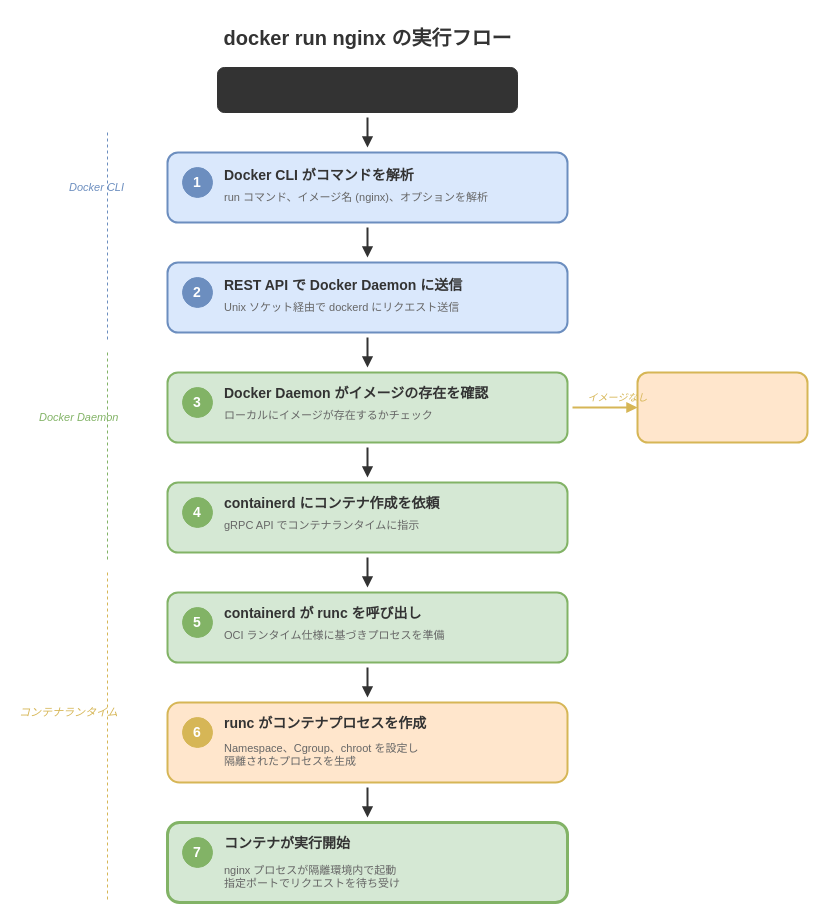
The diagram is 825 pixels wide and 921 high, and some of its shapes have lost their labels. The centre of each missing label's shape, as x and y in pixels:
$ docker run nginx: the point at 367,89
なければ Registry からプル: the point at 722,407
